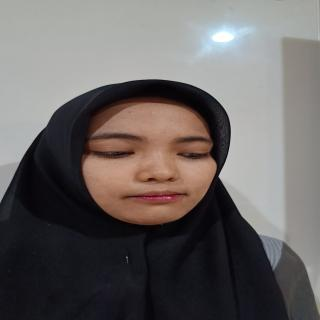Sedih: (68, 91, 239, 234)
